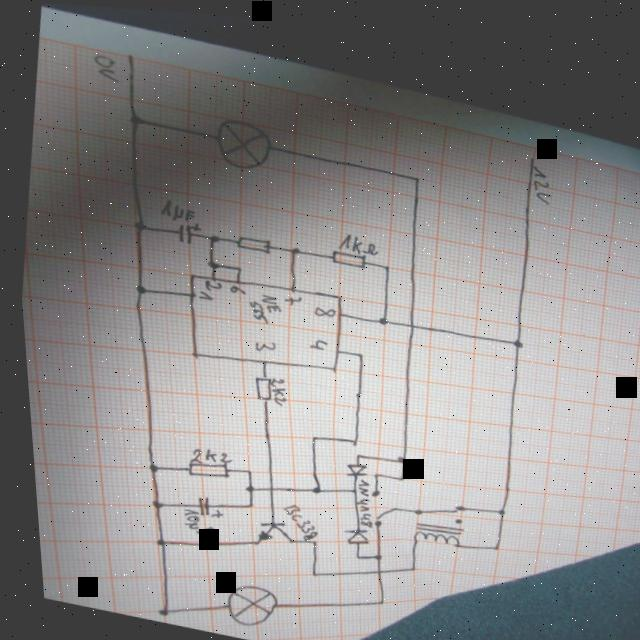capacitor: (187, 491, 220, 517), (173, 216, 202, 244)
crossover: (261, 480, 269, 489), (368, 563, 375, 571), (404, 316, 412, 323)
diode: (335, 520, 364, 542), (338, 455, 364, 475)
junction: (126, 110, 144, 125), (143, 496, 158, 508), (130, 217, 145, 229), (130, 281, 144, 293), (373, 309, 387, 321), (303, 480, 317, 492), (148, 603, 161, 615), (204, 255, 217, 267), (140, 460, 154, 471), (205, 229, 219, 240), (389, 449, 402, 459), (237, 480, 249, 490), (508, 331, 520, 341), (287, 241, 298, 251), (148, 535, 160, 544), (366, 547, 377, 556), (303, 429, 315, 437), (352, 346, 362, 355), (344, 433, 354, 442), (238, 464, 248, 472), (411, 169, 421, 177), (489, 501, 500, 508), (401, 559, 410, 567), (346, 548, 355, 556), (303, 533, 312, 541), (348, 446, 357, 454), (240, 498, 250, 505), (484, 538, 494, 545), (233, 261, 241, 269), (381, 258, 389, 266), (303, 566, 311, 574), (367, 465, 375, 473), (344, 482, 353, 489), (369, 594, 378, 601), (392, 469, 401, 476)
resistor: (179, 452, 225, 480), (328, 242, 365, 265), (233, 229, 270, 251), (247, 370, 269, 399)
switch: (360, 482, 392, 524)
terminal: (525, 147, 536, 156), (125, 49, 136, 57)
text: (273, 497, 314, 538), (242, 286, 281, 322), (346, 473, 371, 522), (333, 226, 379, 252), (182, 442, 228, 467), (174, 505, 212, 535), (527, 157, 554, 197), (156, 195, 195, 222), (91, 52, 122, 81), (262, 372, 286, 403), (309, 299, 334, 315), (250, 334, 273, 350), (304, 331, 325, 347), (280, 288, 300, 303), (200, 275, 220, 290), (194, 286, 212, 298), (226, 281, 243, 291)
transistor: (247, 513, 289, 548)
